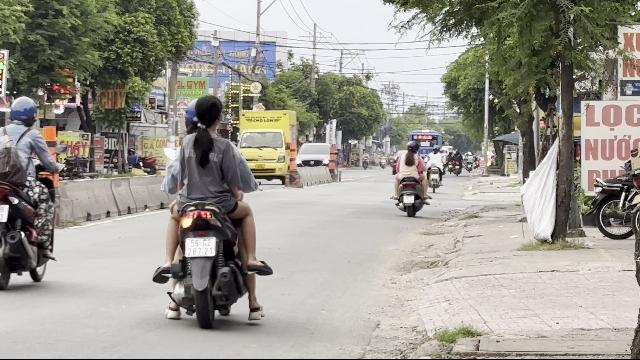helmet: (7, 95, 37, 125), (182, 95, 200, 133)
licenseplate: (185, 237, 215, 257)
motorcyclist: (153, 90, 271, 328), (1, 94, 64, 292)
nohelmet: (192, 93, 224, 131)
